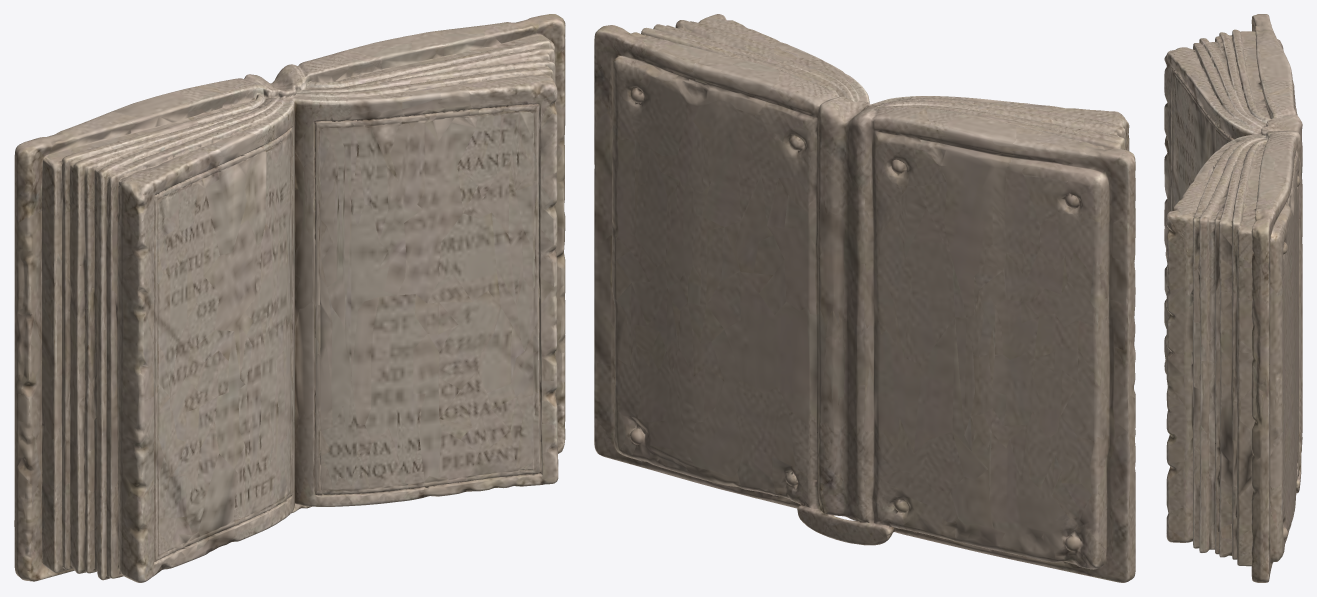
File: repository-book.glb
3 views of the same model, side by side, from view 1: azimuth 30°, elevation 25°; view 2: azimuth 150°, elevation 25°; view 3: azimuth 270°, elevation 25° (orthographic). The views are drawn at different scales.
Bounding box in the file's own units: 1.9 × 1.47 × 0.5083.
Materials: 1 (1 with a texture image).
